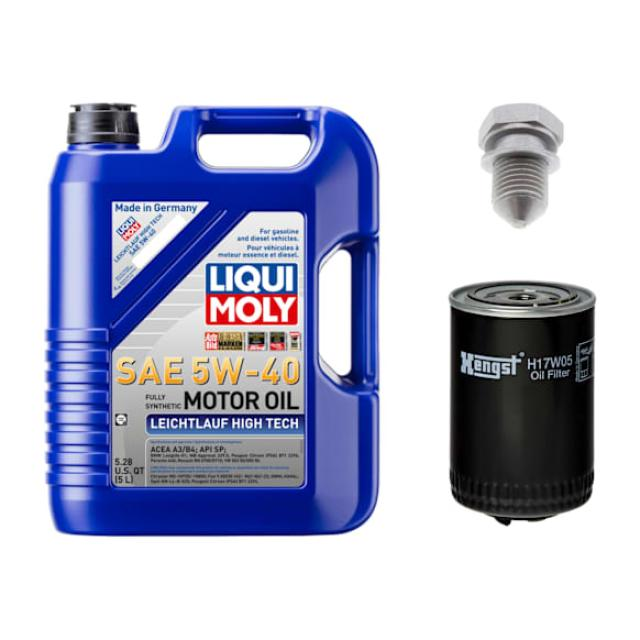motor_oil: (41, 93, 397, 549)
oil_filter: (439, 275, 601, 528)
